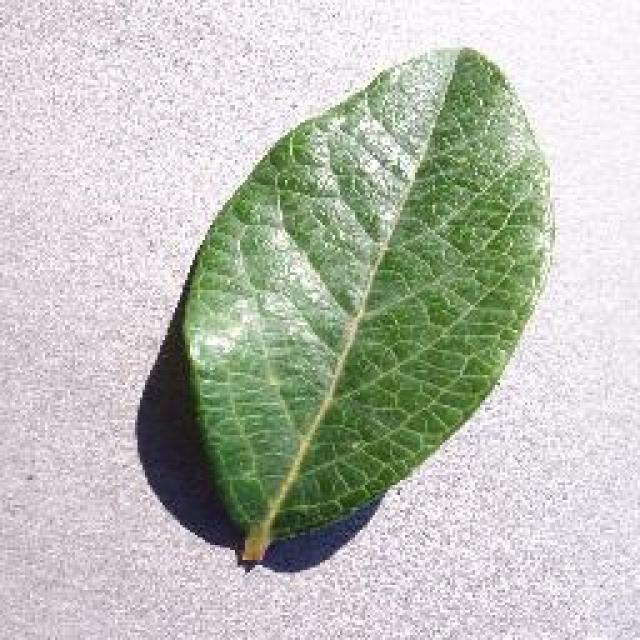Blu_healthy: (216, 130, 542, 462)
